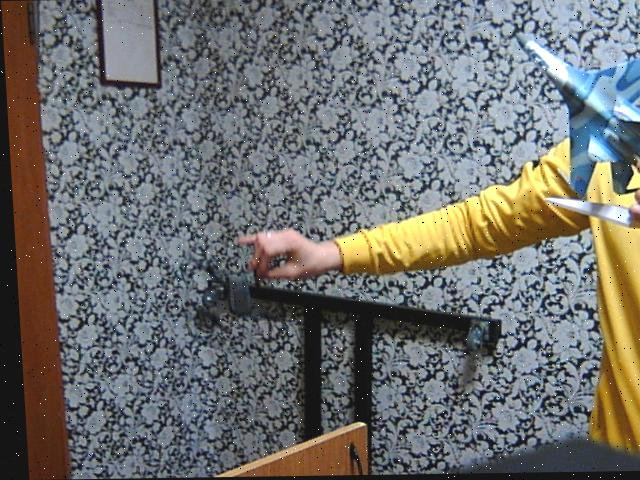drone: (174, 224, 293, 347)
